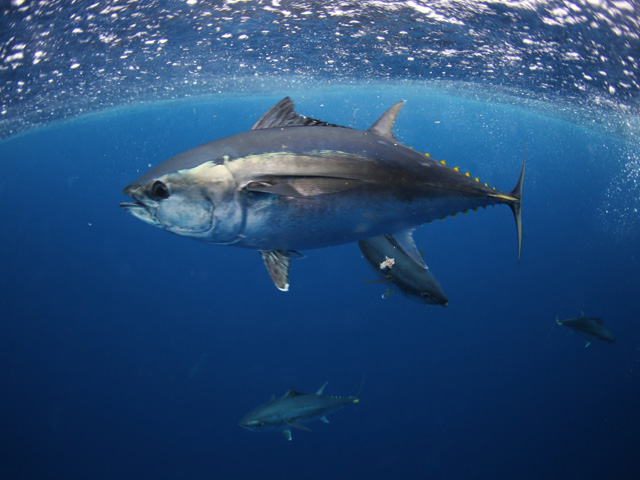Bluefina Tuna: (107, 94, 537, 294)
